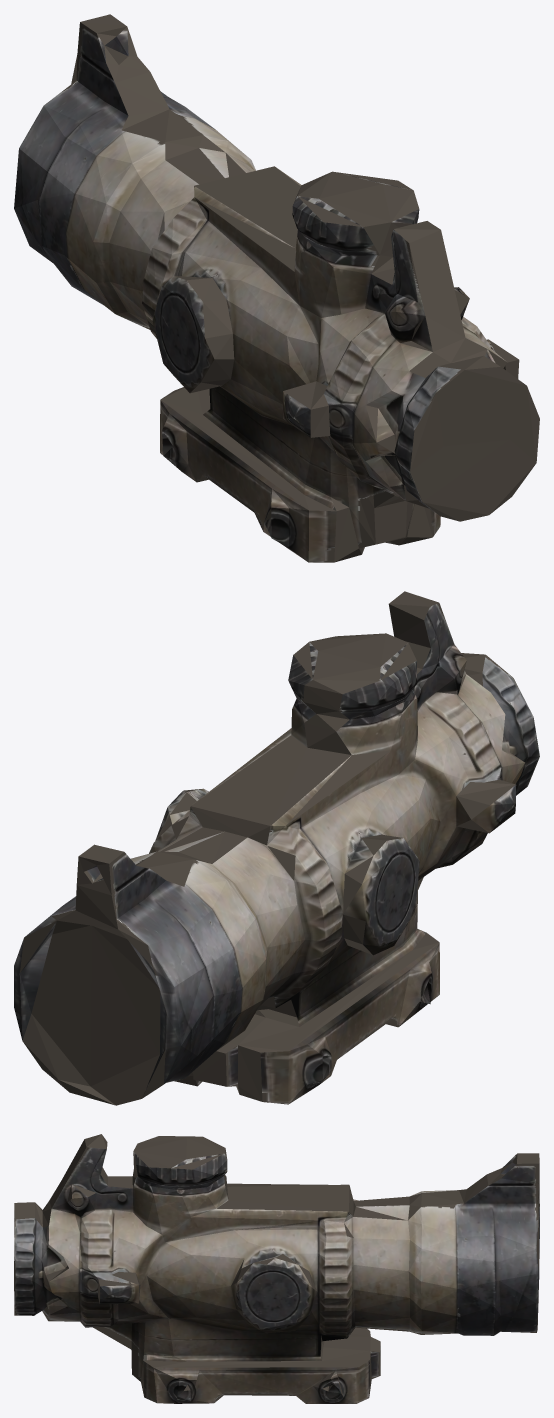
The model's file is acog3x.glb.
3 views of the same model, one above another, from view 1: azimuth 30°, elevation 25°; view 2: azimuth 150°, elevation 25°; view 3: azimuth 270°, elevation 25° (orthographic). The views are drawn at different scales.
Visible parts, largest first — view 1: Mesh_0; view 2: Mesh_0; view 3: Mesh_0.
Boxes of the visible parts, x1,y1,x2,y2 form: Mesh_0: [14, 14, 539, 562]; Mesh_0: [14, 591, 539, 1105]; Mesh_0: [14, 1134, 539, 1403].
Size of the model in its own units: 0.0536 by 0.081 by 0.16.
1 material, 1 textured.
